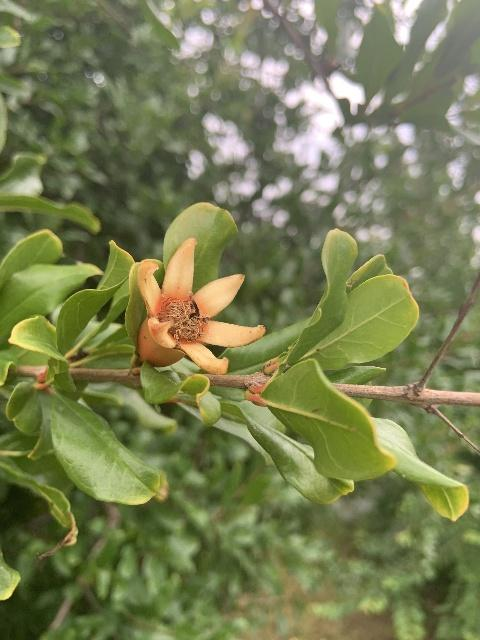early-fruit: (136, 237, 265, 374)
